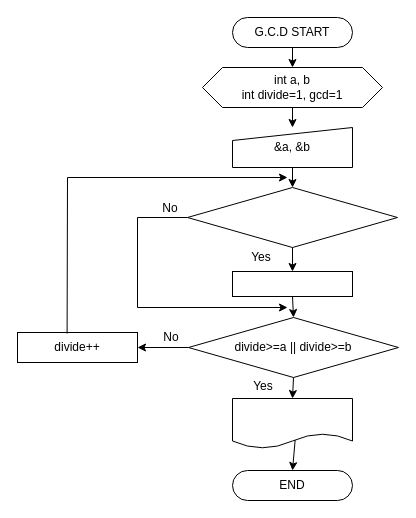
This 416x518 diagram has some shape labels left out. The shapes that lost their labels are listed below. From the top down, each one's box as (x1, y1, x2, y2) in pixels, then its label:
(186, 186, 398, 248): a%divide==0 && b%divide==0
(232, 270, 352, 296): gcd=divide
(232, 398, 352, 448): G.C.D
